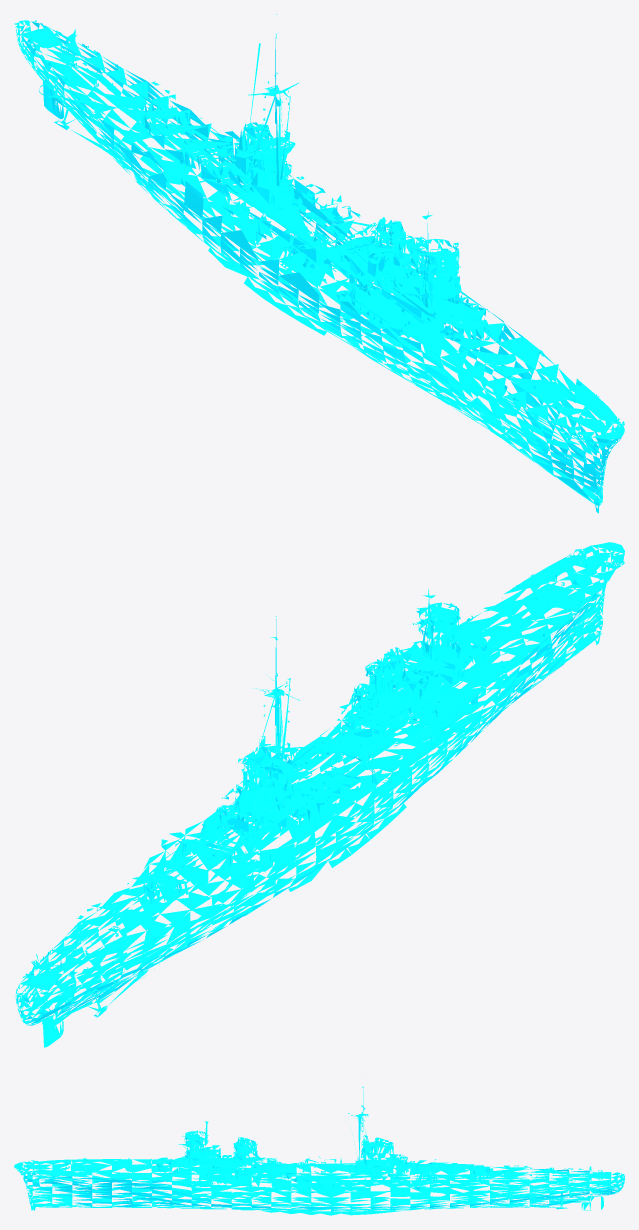
The model's file is DucadAosta.glb.
3 views of the same model, one above another, from view 1: azimuth 30°, elevation 25°; view 2: azimuth 150°, elevation 25°; view 3: azimuth 270°, elevation 25° (orthographic). The views are drawn at different scales.
Size of the model in its own units: 1.3 by 3.03 by 12.45.
